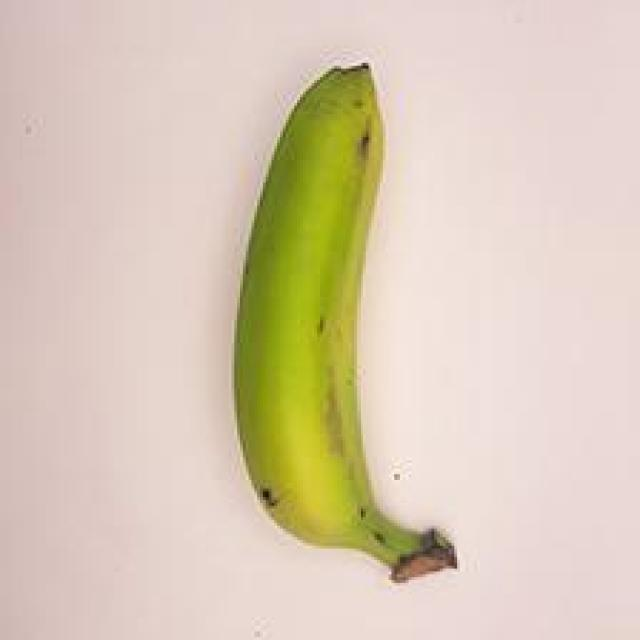Unripe: (215, 26, 480, 583)
